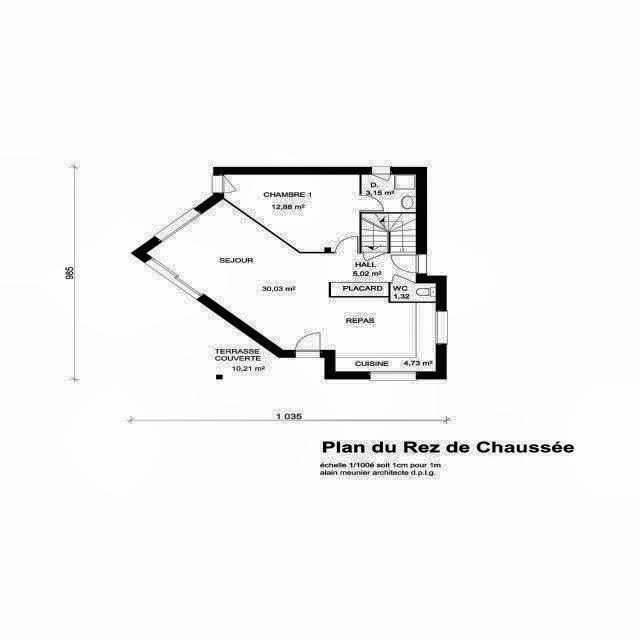room: (130, 184, 464, 396), (224, 174, 360, 252), (361, 174, 416, 212), (390, 283, 436, 301)
